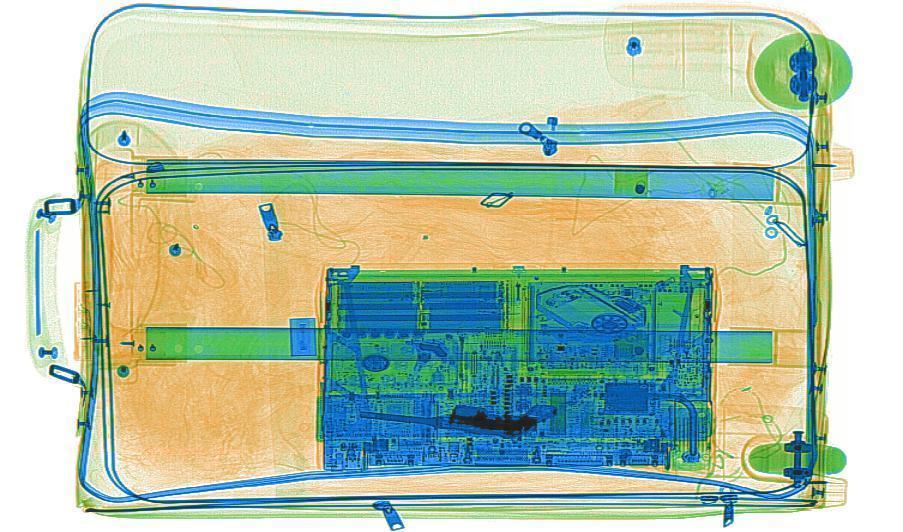Gun: (351, 380, 561, 444)
